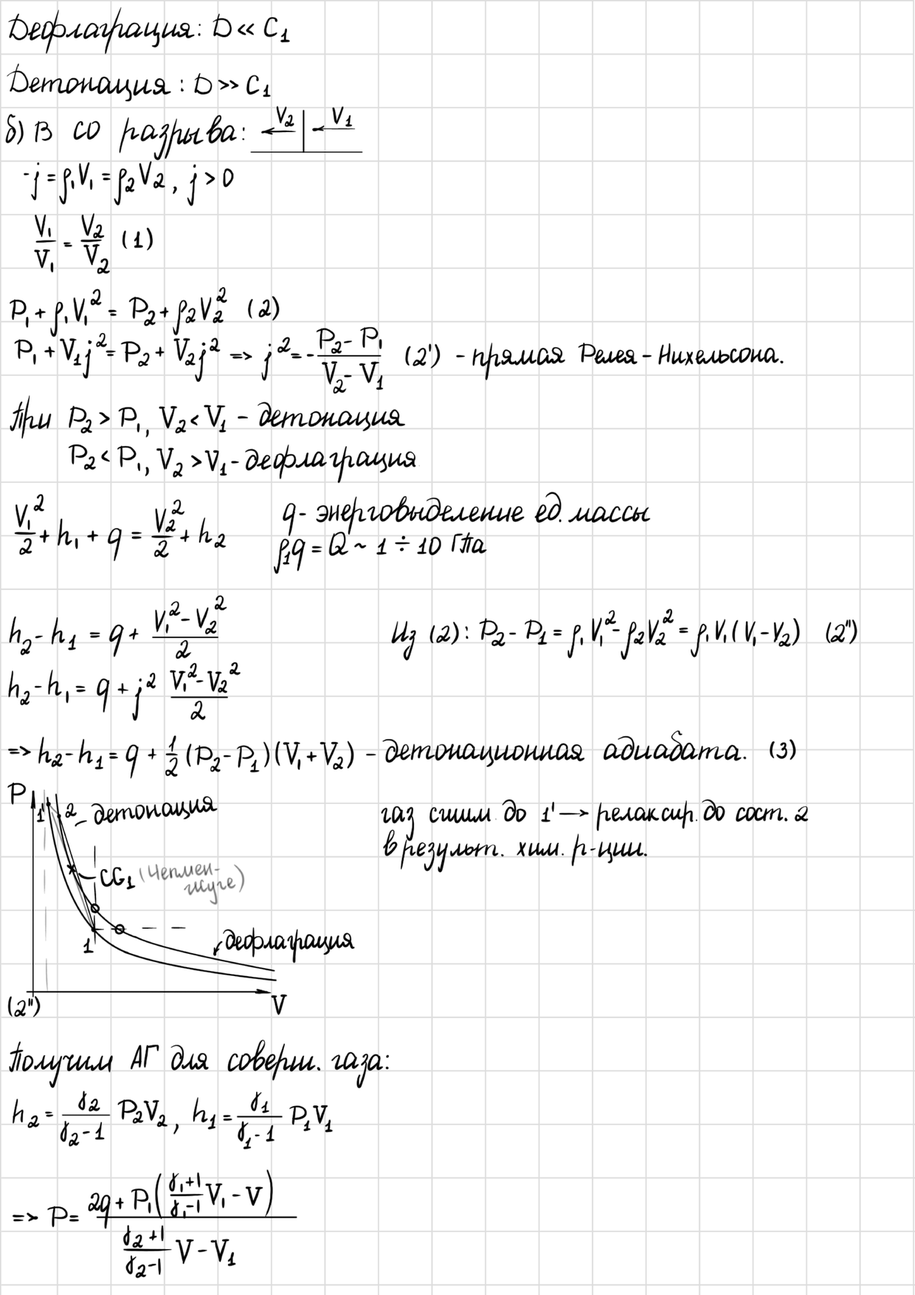formula: (2, 1165, 300, 1288), (472, 607, 868, 657), (0, 487, 228, 571), (2, 730, 358, 781), (2, 661, 250, 726), (6, 591, 225, 662), (2, 281, 284, 333), (254, 322, 446, 394), (7, 335, 251, 383), (269, 530, 492, 574), (188, 1092, 339, 1156), (5, 1092, 185, 1145), (26, 214, 161, 271), (19, 160, 168, 211), (64, 440, 229, 481), (63, 403, 232, 432), (183, 162, 238, 206)
picture: (4, 781, 358, 1026), (253, 105, 373, 161)
text: (0, 1030, 394, 1087), (363, 729, 806, 776), (375, 794, 814, 834), (277, 491, 655, 529), (2, 5, 302, 51), (473, 341, 786, 383), (2, 57, 276, 103), (0, 109, 248, 157), (379, 835, 653, 866), (230, 445, 416, 483), (233, 400, 411, 436), (388, 602, 469, 657), (219, 923, 367, 953), (2, 394, 51, 434)
